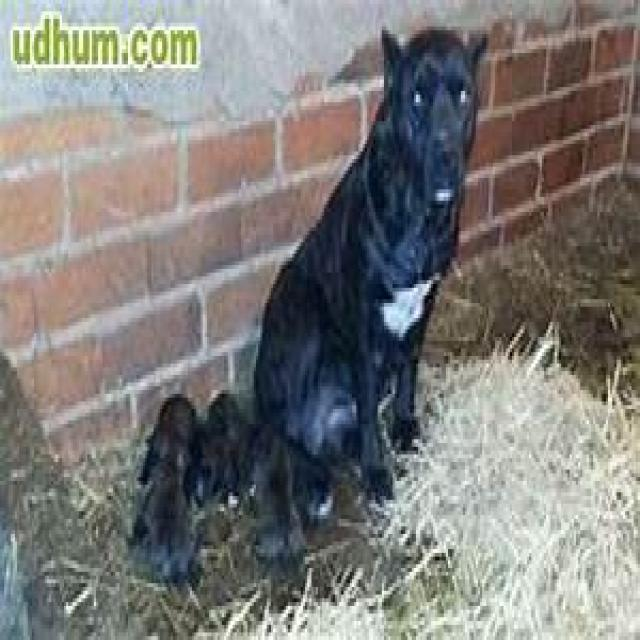animal: (223, 0, 490, 551)
